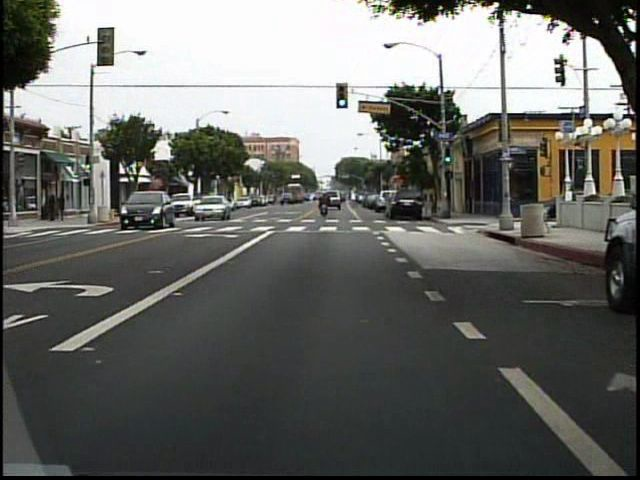person: (47, 193, 60, 223), (318, 189, 331, 218), (59, 191, 70, 222)
